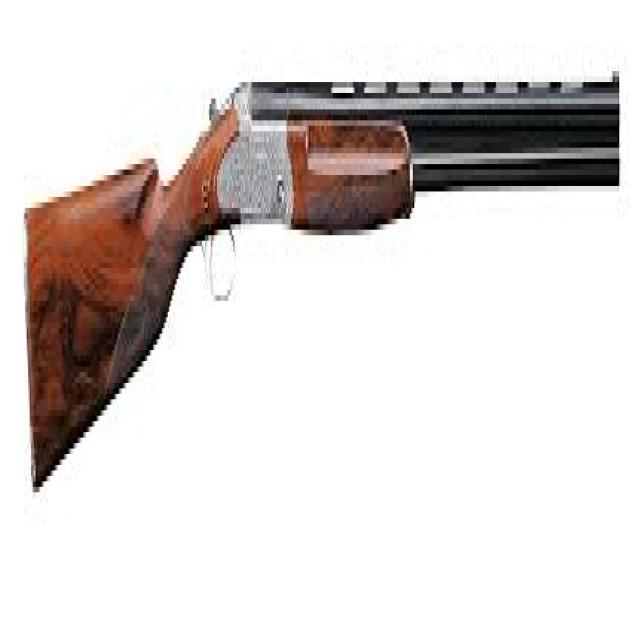rifle: (20, 31, 632, 534)
